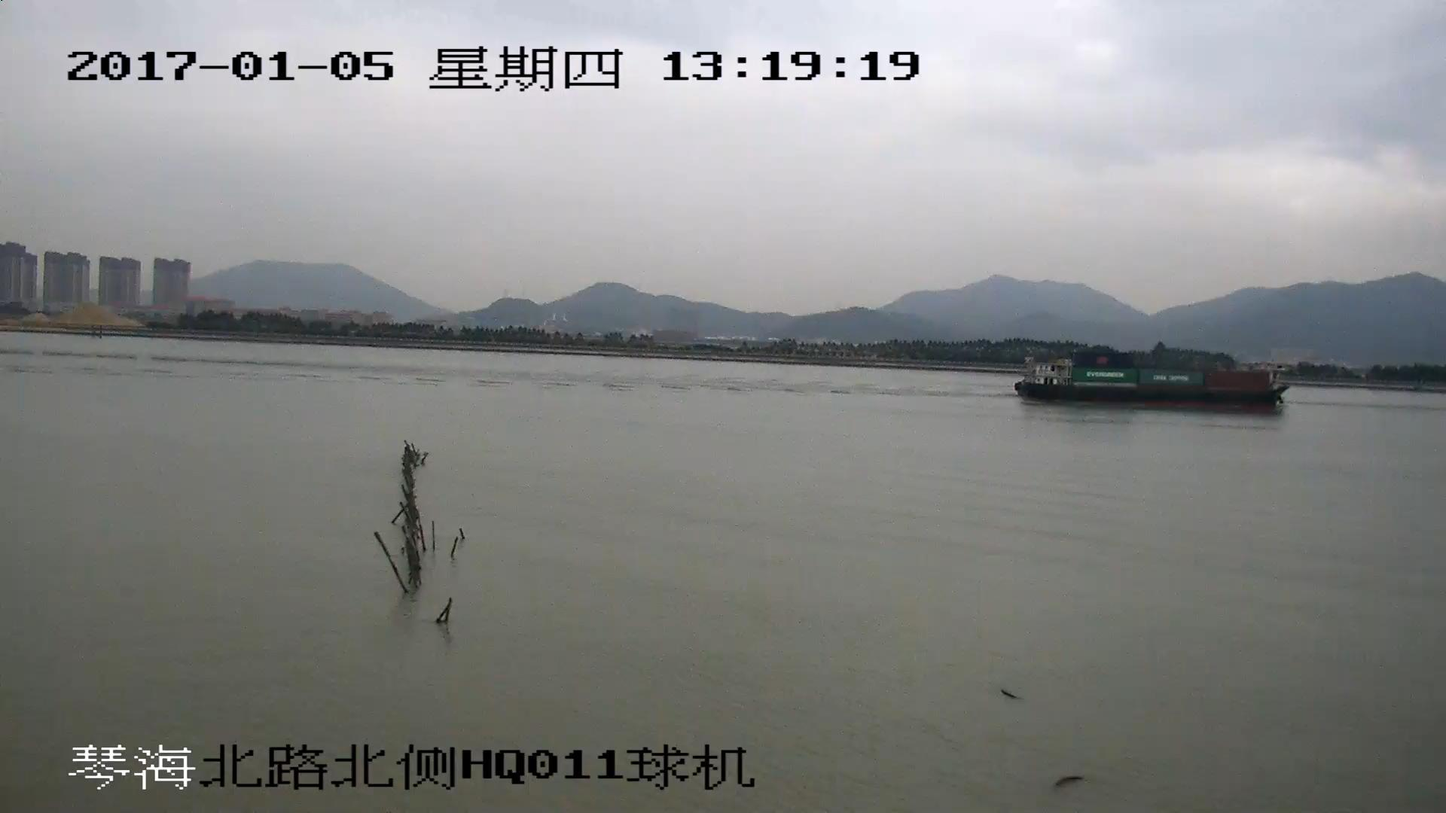container ship: (1014, 348, 1286, 406)
